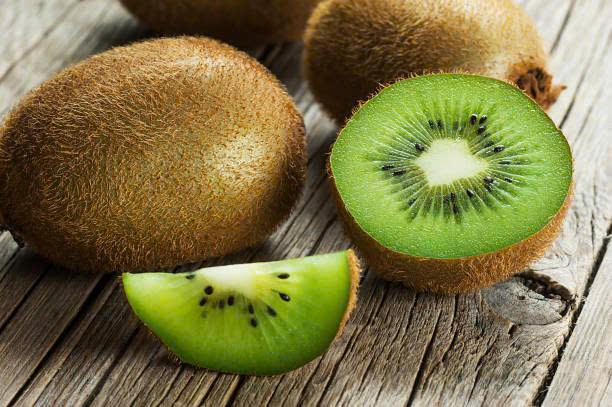kiwi: (0, 46, 297, 256), (333, 64, 578, 277), (95, 248, 391, 370), (288, 0, 569, 87)
